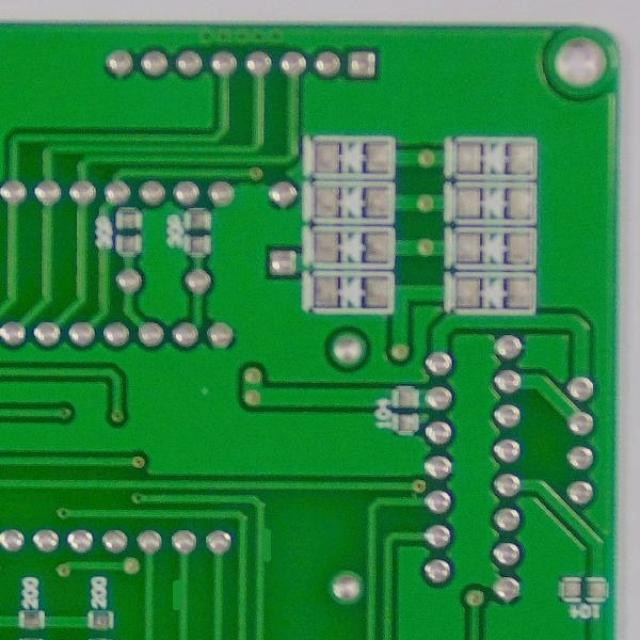spur: (164, 576, 194, 615), (256, 519, 276, 572)
